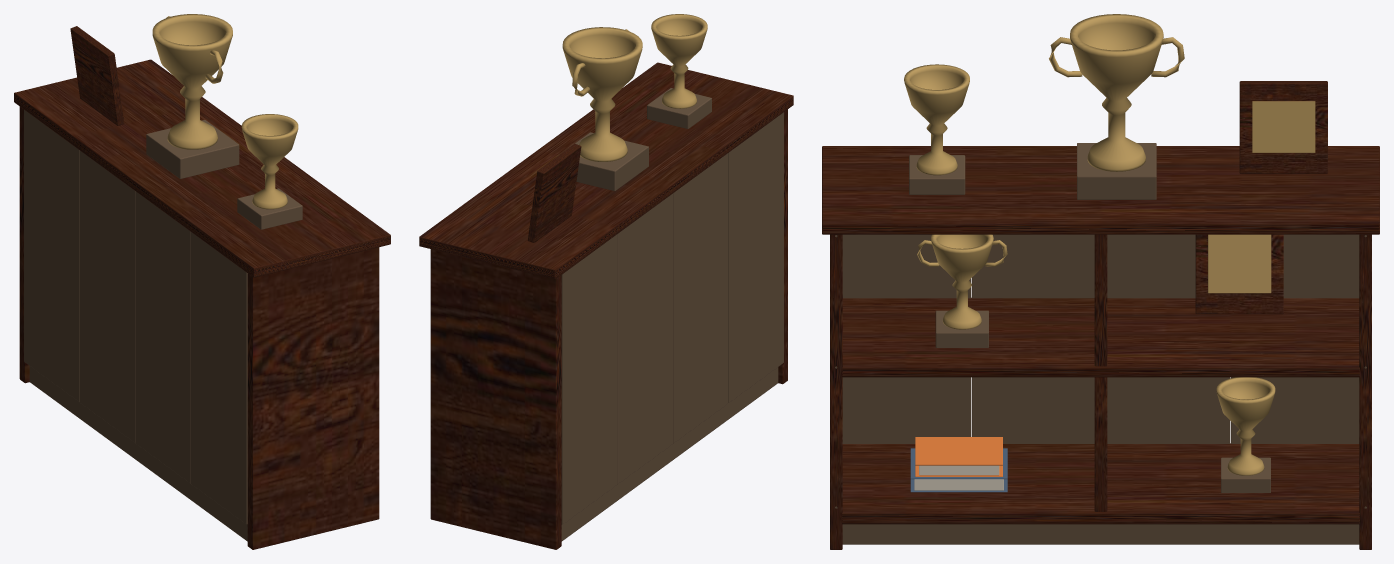
3 renders of one model, left to right at view 1: azimuth 30°, elevation 25°; view 2: azimuth 150°, elevation 25°; view 3: azimuth 270°, elevation 25°, orthographic. The views are drawn at different scales.
Parts seen in each view (by area): view 1: C09-runtime | shared physical materials; view 2: C09-runtime | shared physical materials; view 3: C09-runtime | shared physical materials.
Boxes of the visible parts, box(x1,y1,x2,y2) form: C09-runtime | shared physical materials: box(14, 14, 390, 549); C09-runtime | shared physical materials: box(419, 14, 793, 549); C09-runtime | shared physical materials: box(822, 14, 1379, 549).
Bounding box in the file's own units: 0.585 × 1.68 × 1.77.
Materials: 6 (1 with a texture image).
